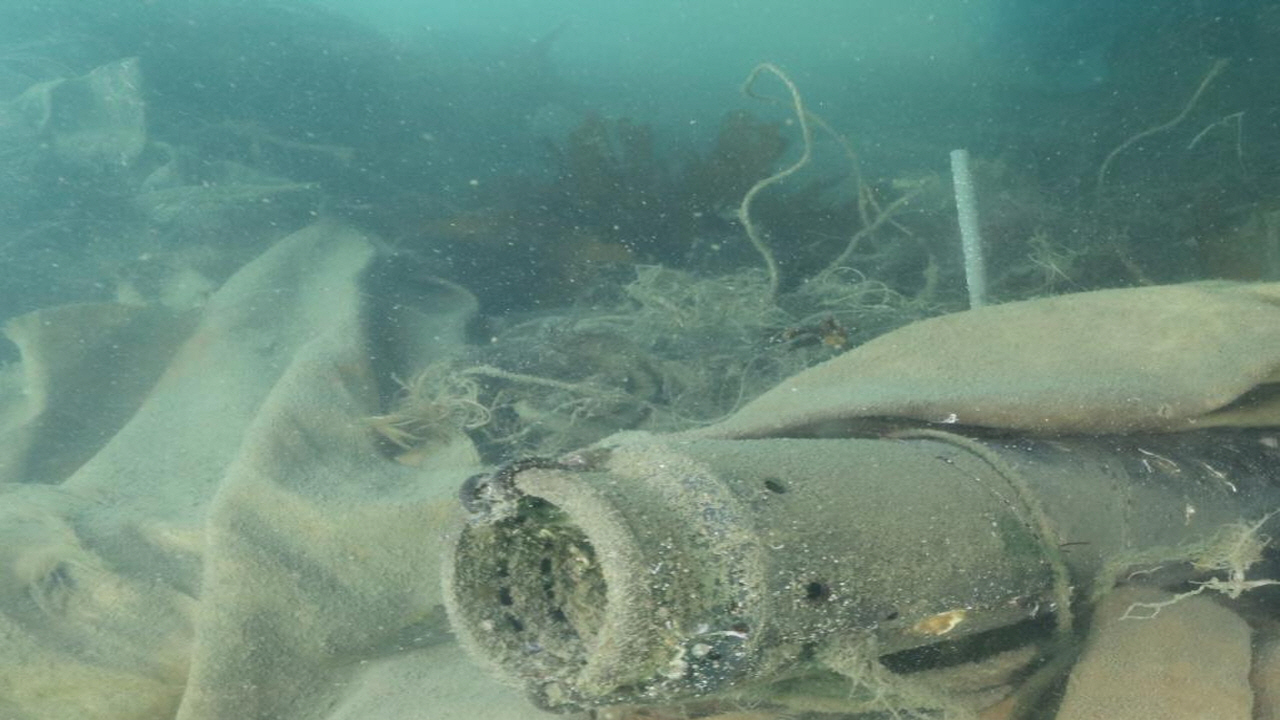bundle of ropes: (771, 427, 1070, 714), (740, 61, 936, 290)
eel fish trap: (437, 447, 1280, 704)
